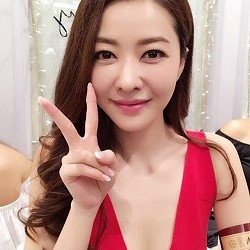unmask: (85, 25, 182, 132)
